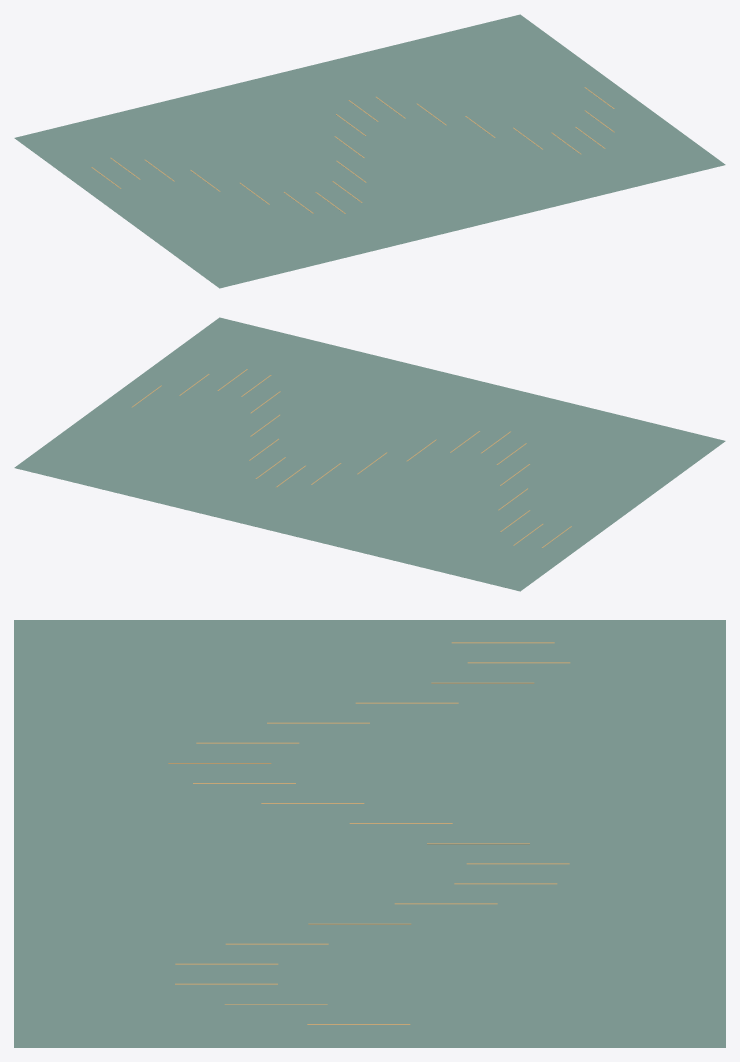
File: 265_L118_L28_LayerReference.glb
The picture shows the model from 3 angles, top to bottom: view 1: azimuth 30°, elevation 25°; view 2: azimuth 150°, elevation 25°; view 3: azimuth 270°, elevation 25°; orthographic projection. The views are drawn at different scales.
Parts seen in each view (by area): view 1: 0000__PSMAT__dielectric; view 2: 0000__PSMAT__dielectric; view 3: 0000__PSMAT__dielectric.
Boxes of the visible parts, <box> form: 0000__PSMAT__dielectric: <box>14,14,725,288</box>; 0000__PSMAT__dielectric: <box>14,317,725,591</box>; 0000__PSMAT__dielectric: <box>14,620,725,1047</box>.
Bounding box in the file's own units: 0.472 × 0.000429 × 0.332.
